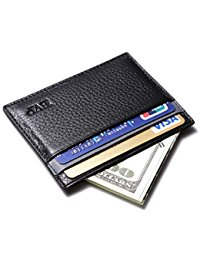monedero: (3, 52, 195, 209)
